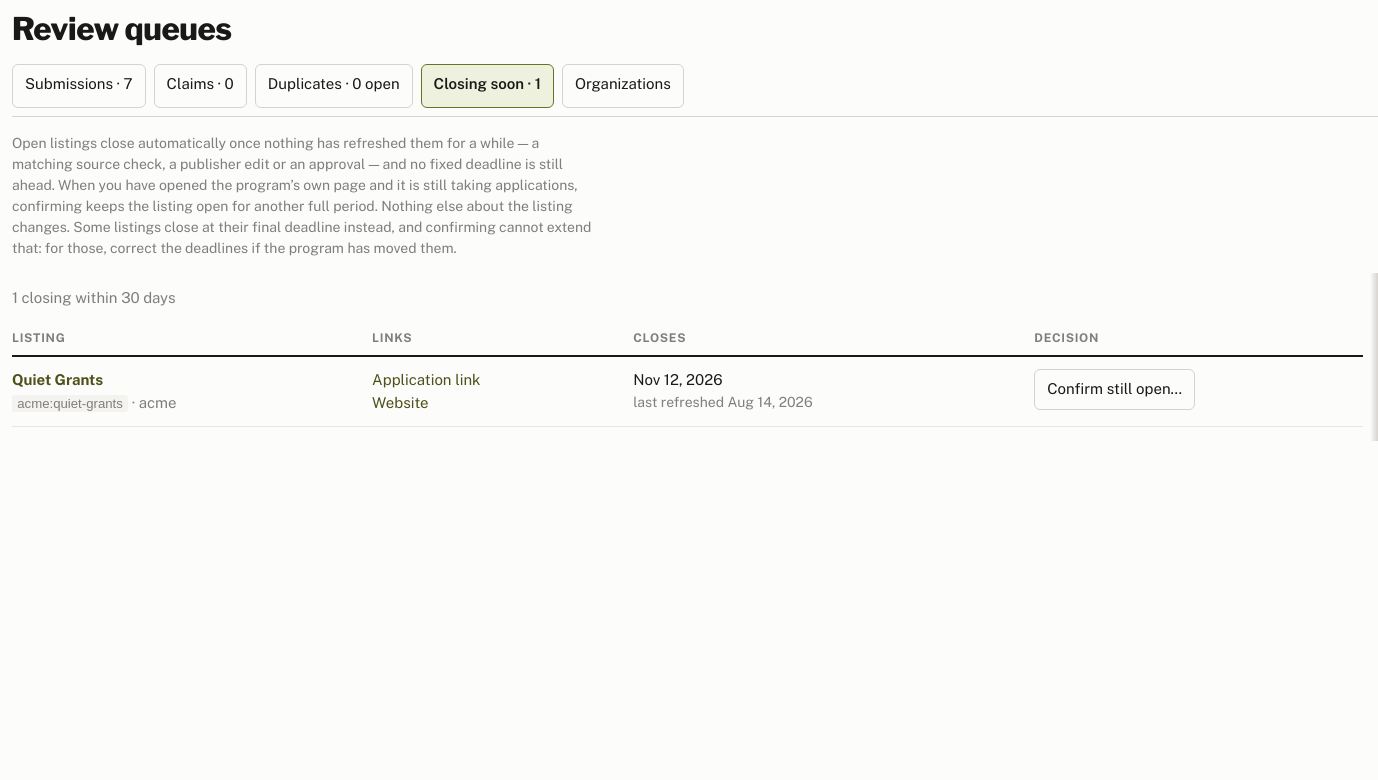
it: listings closing soon › confirms only after a stated consequence, sends the note, and refreshes the list
Click the button "Confirm still open…" at (1115, 390), box [1034, 369, 1195, 410]
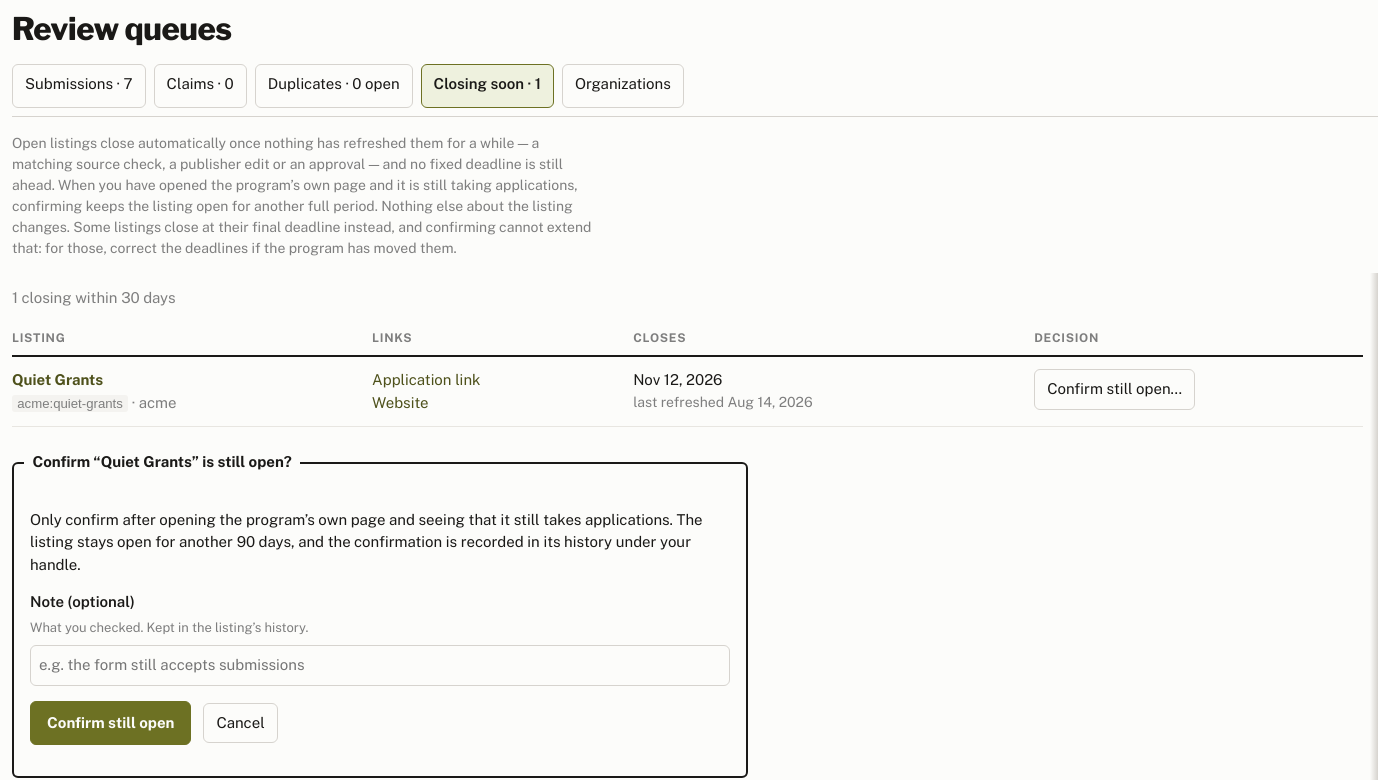
Check: the text "Only confirm after opening the program’s own page" is shown, box [30, 511, 702, 550]
Type "  form still live  " into the field labelled "Note (optional)" at (380, 666), box [30, 645, 730, 686]
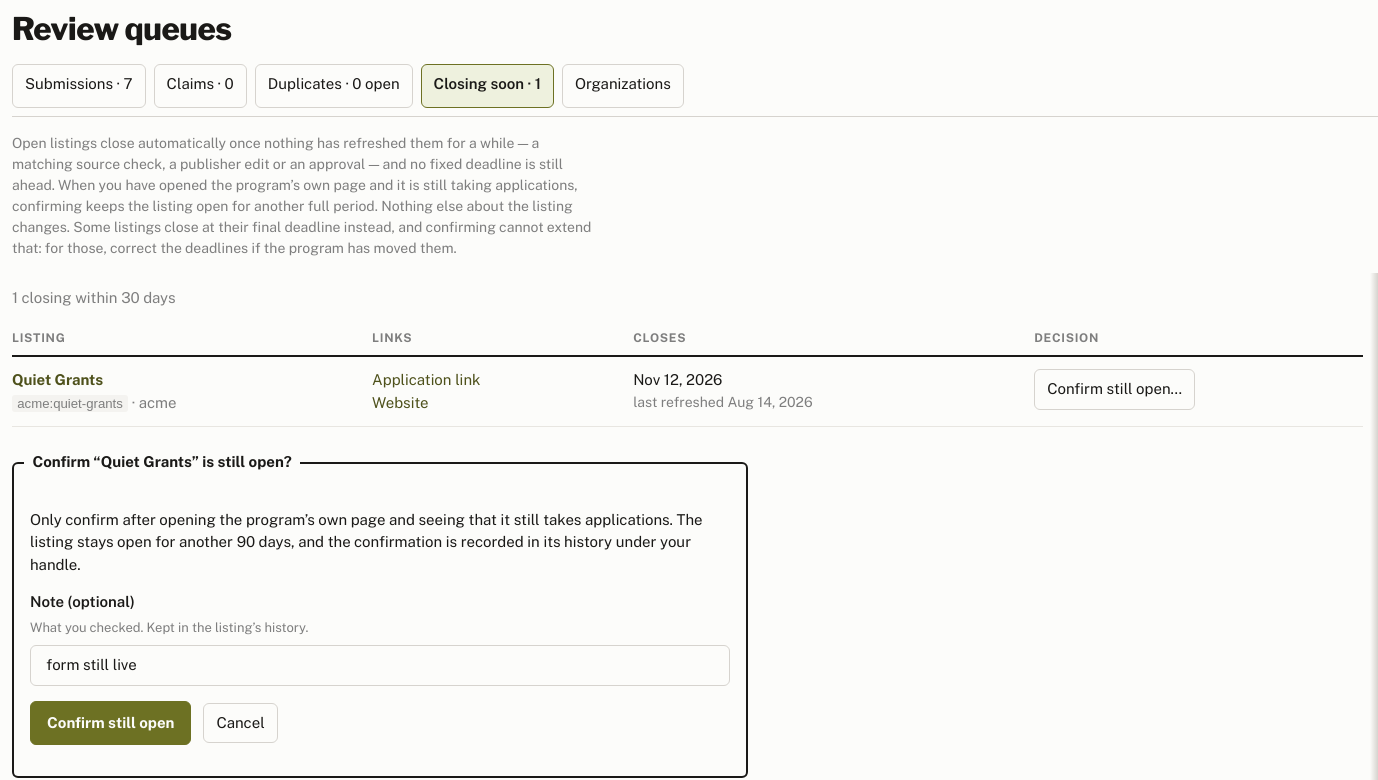
Click the button "Confirm still open" at (111, 723), box [30, 701, 191, 745]
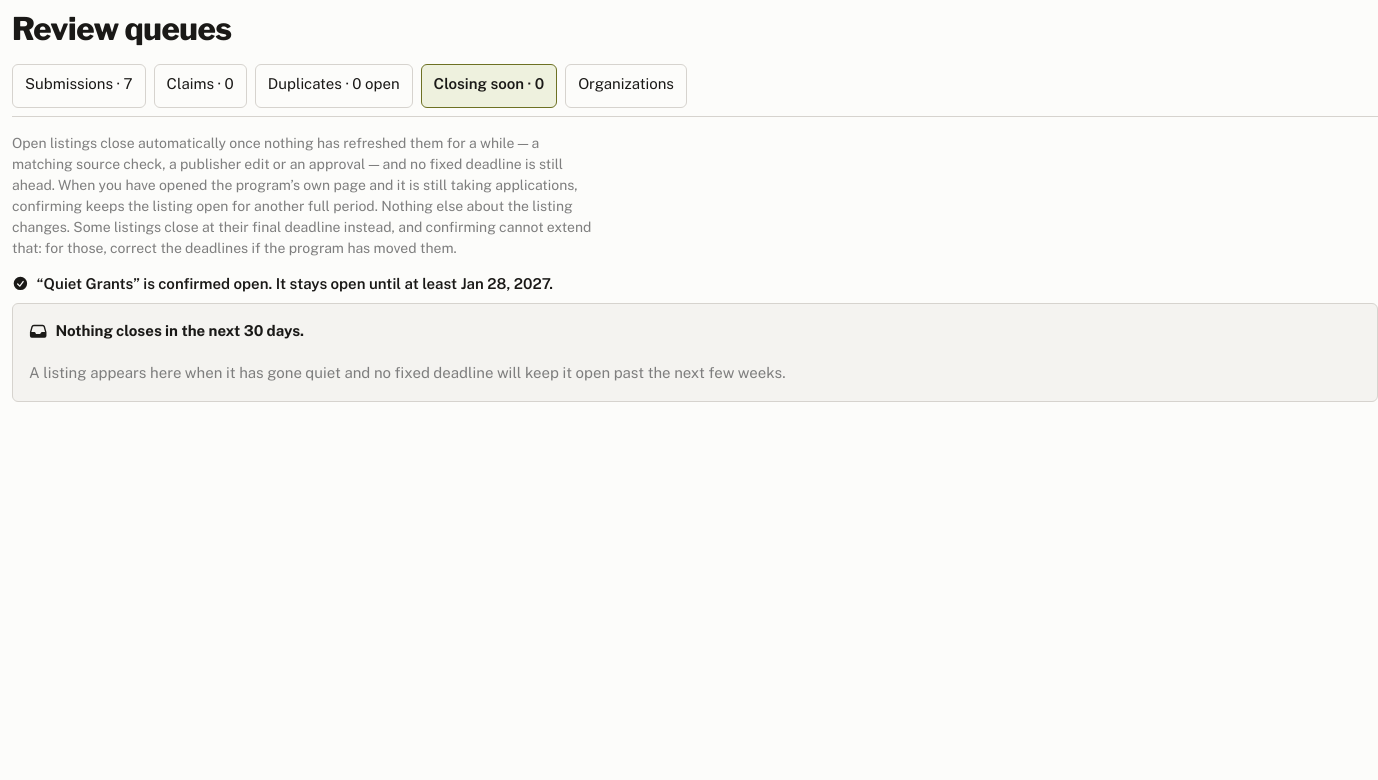
Check: the text "“Quiet Grants” is confirmed open. It stays open until at least Jan 28, 2027." is shown, box [12, 275, 553, 292]
